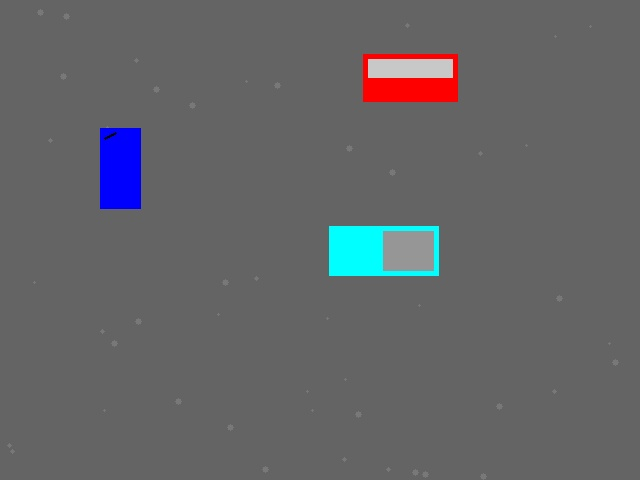car: (363, 54, 457, 101)
motorcycle: (100, 128, 140, 208)
truck: (329, 226, 438, 275)
